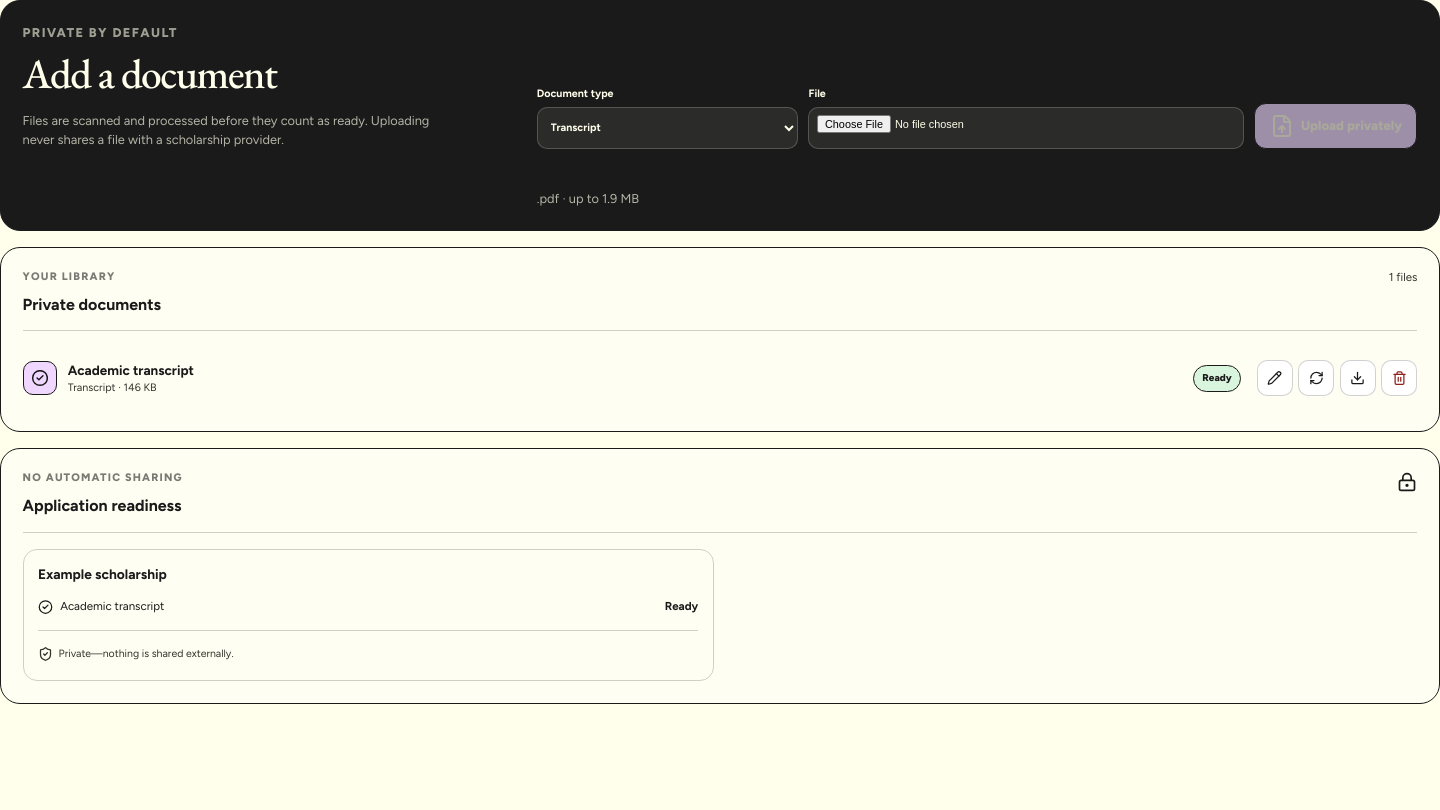
Test: private document manager › requires destructive confirmation and explains readiness effects
Click the 4th button at {"x": 1399, "y": 378}, box [1381,360,1417,396]
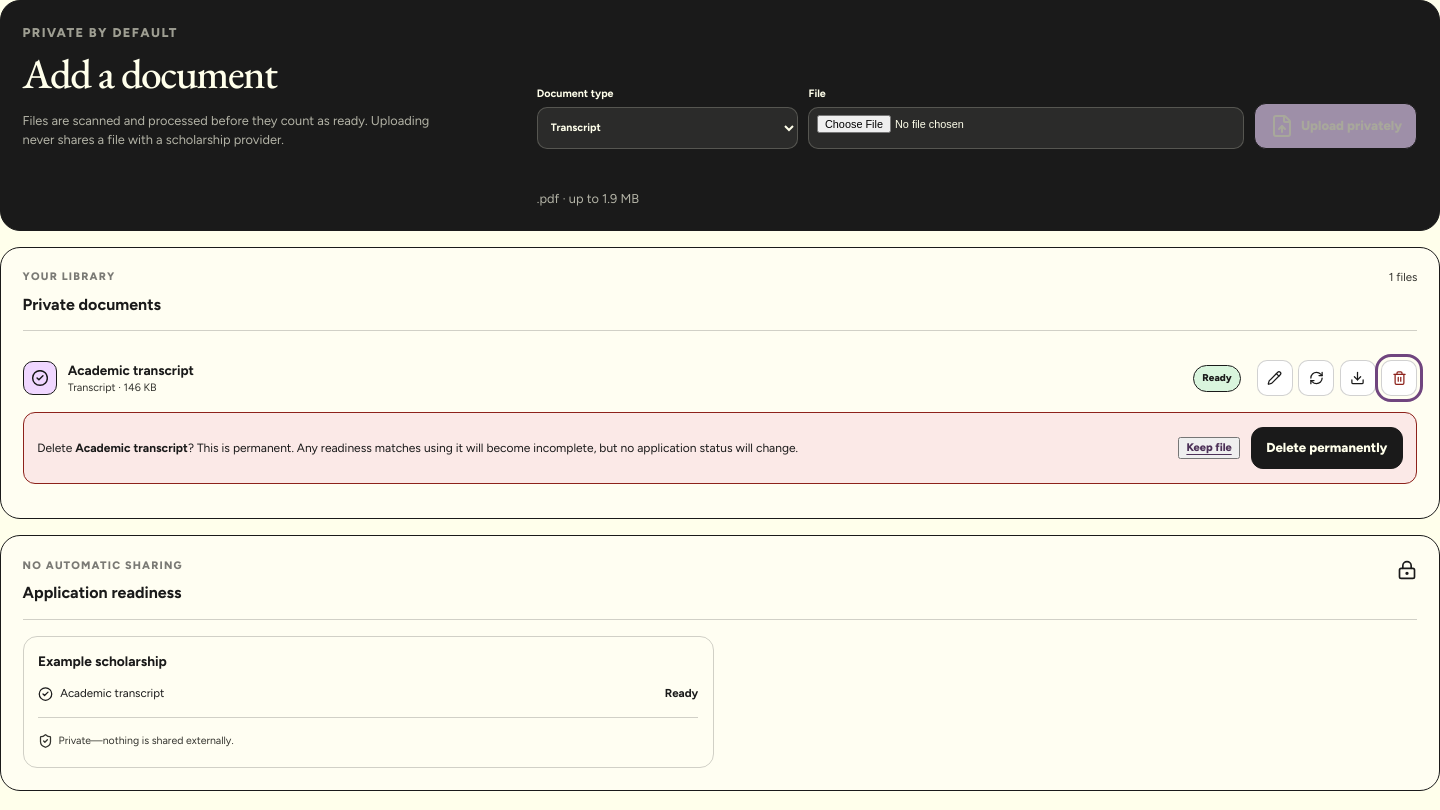
Click the button "Delete permanently" at {"x": 1327, "y": 448}, box [1251,427,1403,469]
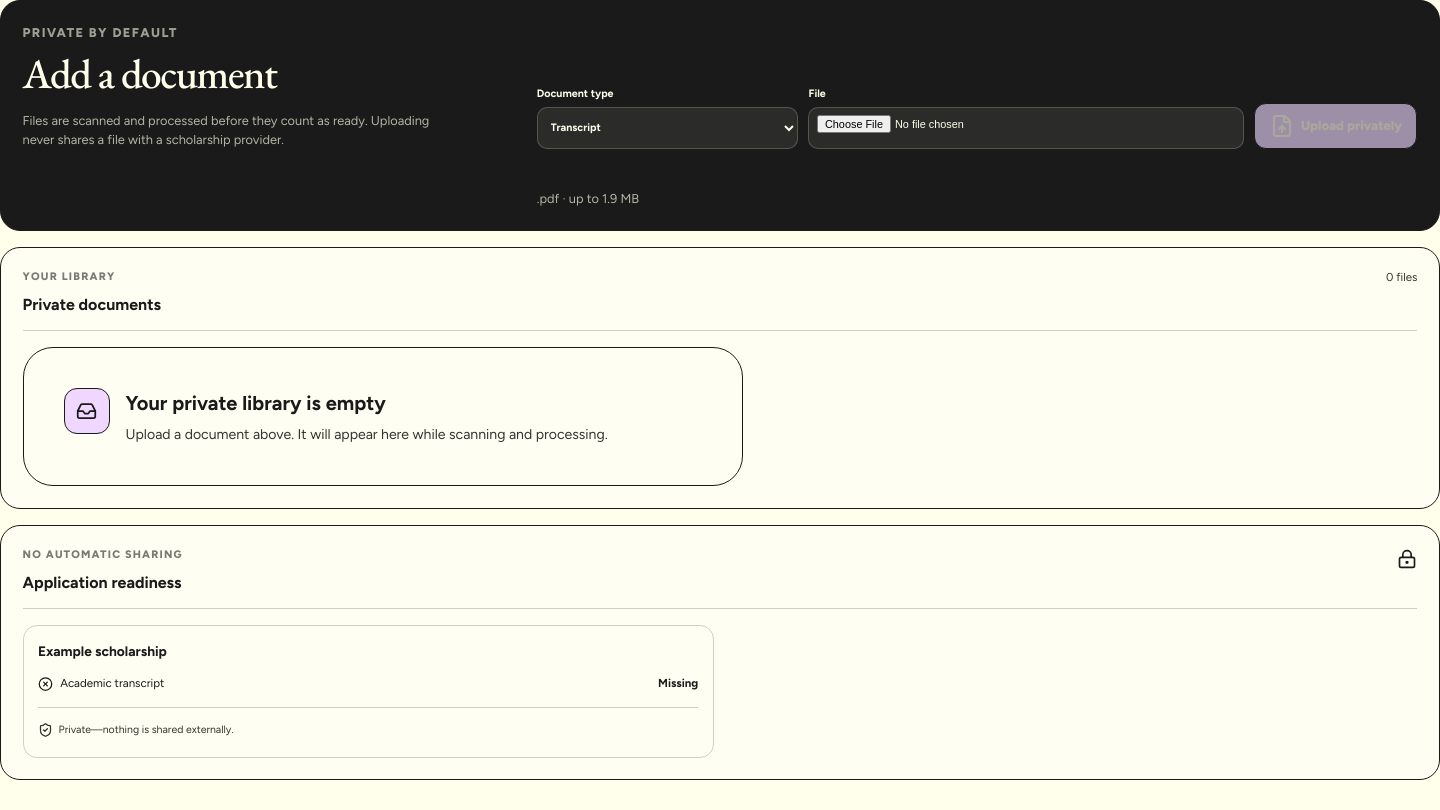
expect the text "Missing" is shown: met, box [658,675,698,692]
